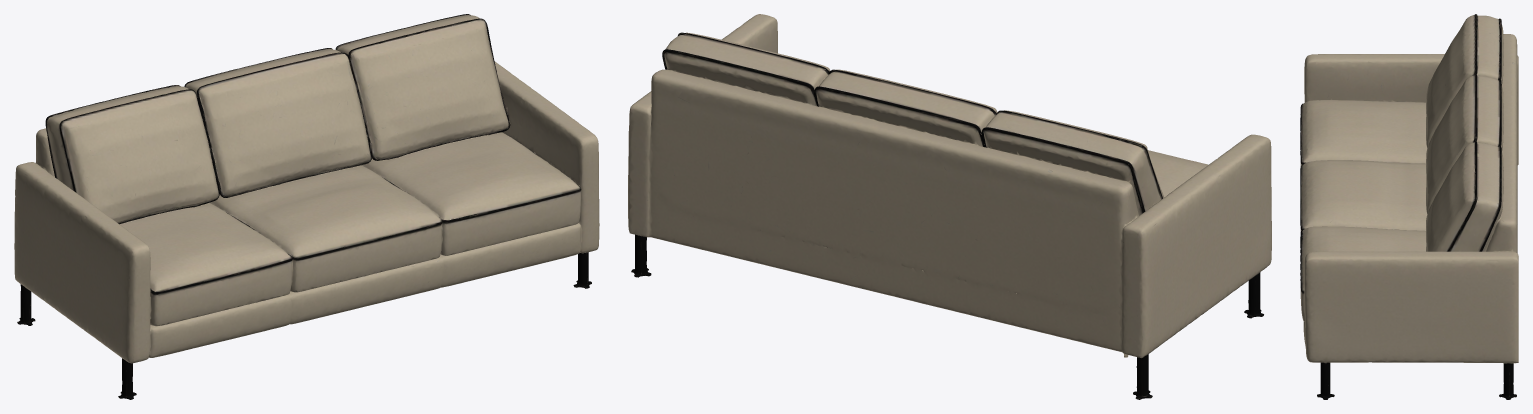
The model's file is 21_直线扶手三人沙发.glb.
The picture shows the model from 3 angles, left to right: view 1: azimuth 30°, elevation 25°; view 2: azimuth 150°, elevation 25°; view 3: azimuth 270°, elevation 25°; orthographic projection. The views are drawn at different scales.
Parts seen in each view (by area): view 1: world; view 2: world; view 3: world.
Boxes of the visible parts, left/top/right/bottom form: world: left=14, top=14, right=599, bottom=399; world: left=628, top=14, right=1271, bottom=399; world: left=1300, top=14, right=1518, bottom=399.
Size of the model in its own units: 1 by 0.4277 by 0.4431.
Materials: 1 (1 with a texture image).
